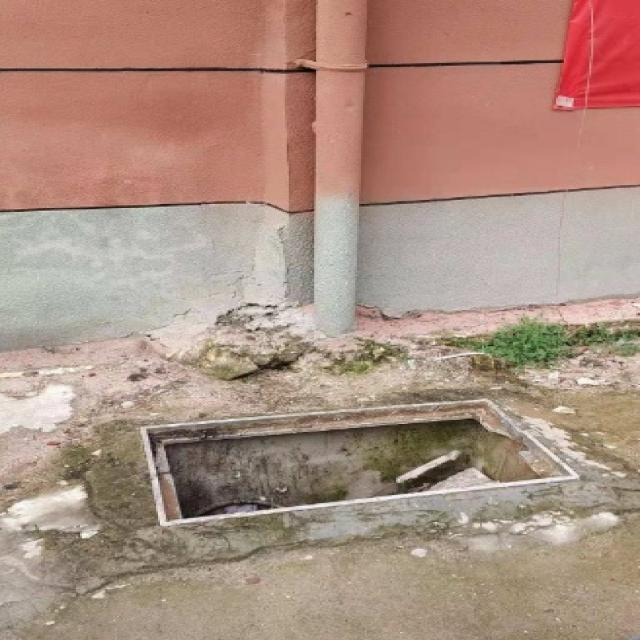Uncovered: (120, 386, 602, 544)
